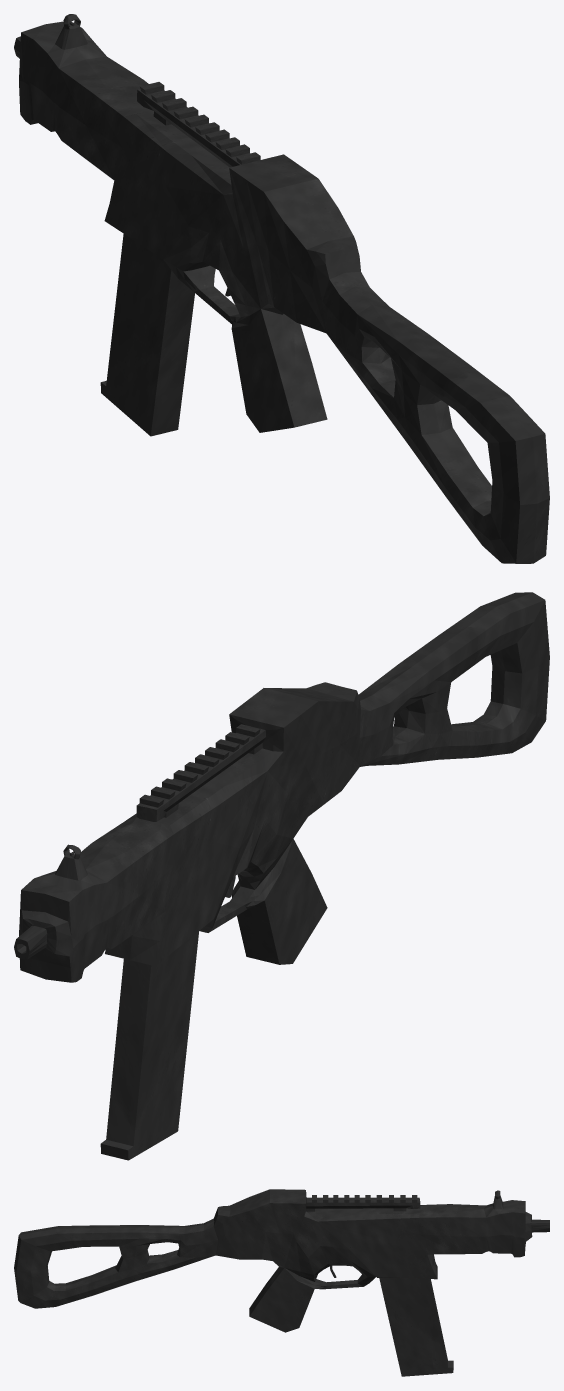
File: ump45.obj
3 renders of one model, top to bottom at view 1: azimuth 30°, elevation 25°; view 2: azimuth 150°, elevation 25°; view 3: azimuth 270°, elevation 25°, orthographic. The views are drawn at different scales.
Visible parts, largest first — view 1: Plane; view 2: Plane; view 3: Plane.
Boxes of the visible parts, left/top/right/bottom form: Plane: left=14, top=14, right=549, bottom=563; Plane: left=14, top=592, right=549, bottom=1160; Plane: left=14, top=1189, right=549, bottom=1376.
Size of the model in its own units: 0.0603 by 0.3694 by 0.9843.
